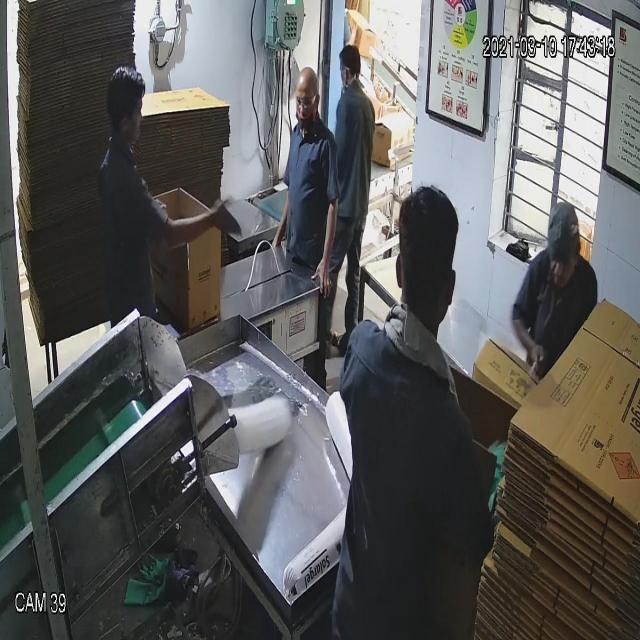No_Gloves: (32, 73, 329, 242)
